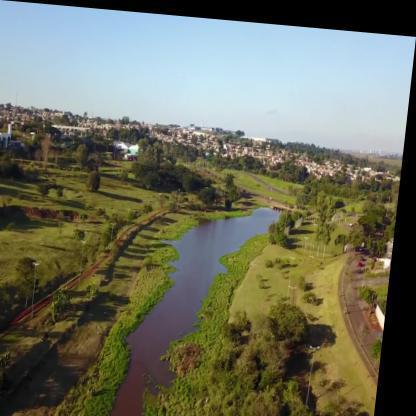agua: (155, 257, 197, 375), (178, 226, 229, 308), (126, 317, 168, 415), (213, 210, 267, 242)
